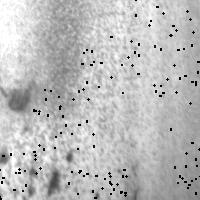pitted_surface: (28, 2, 144, 196), (33, 89, 93, 148), (81, 36, 138, 92), (153, 44, 200, 102), (0, 147, 39, 200), (135, 0, 192, 34), (170, 128, 200, 187), (68, 169, 125, 200), (1, 78, 36, 113), (166, 165, 200, 200)
